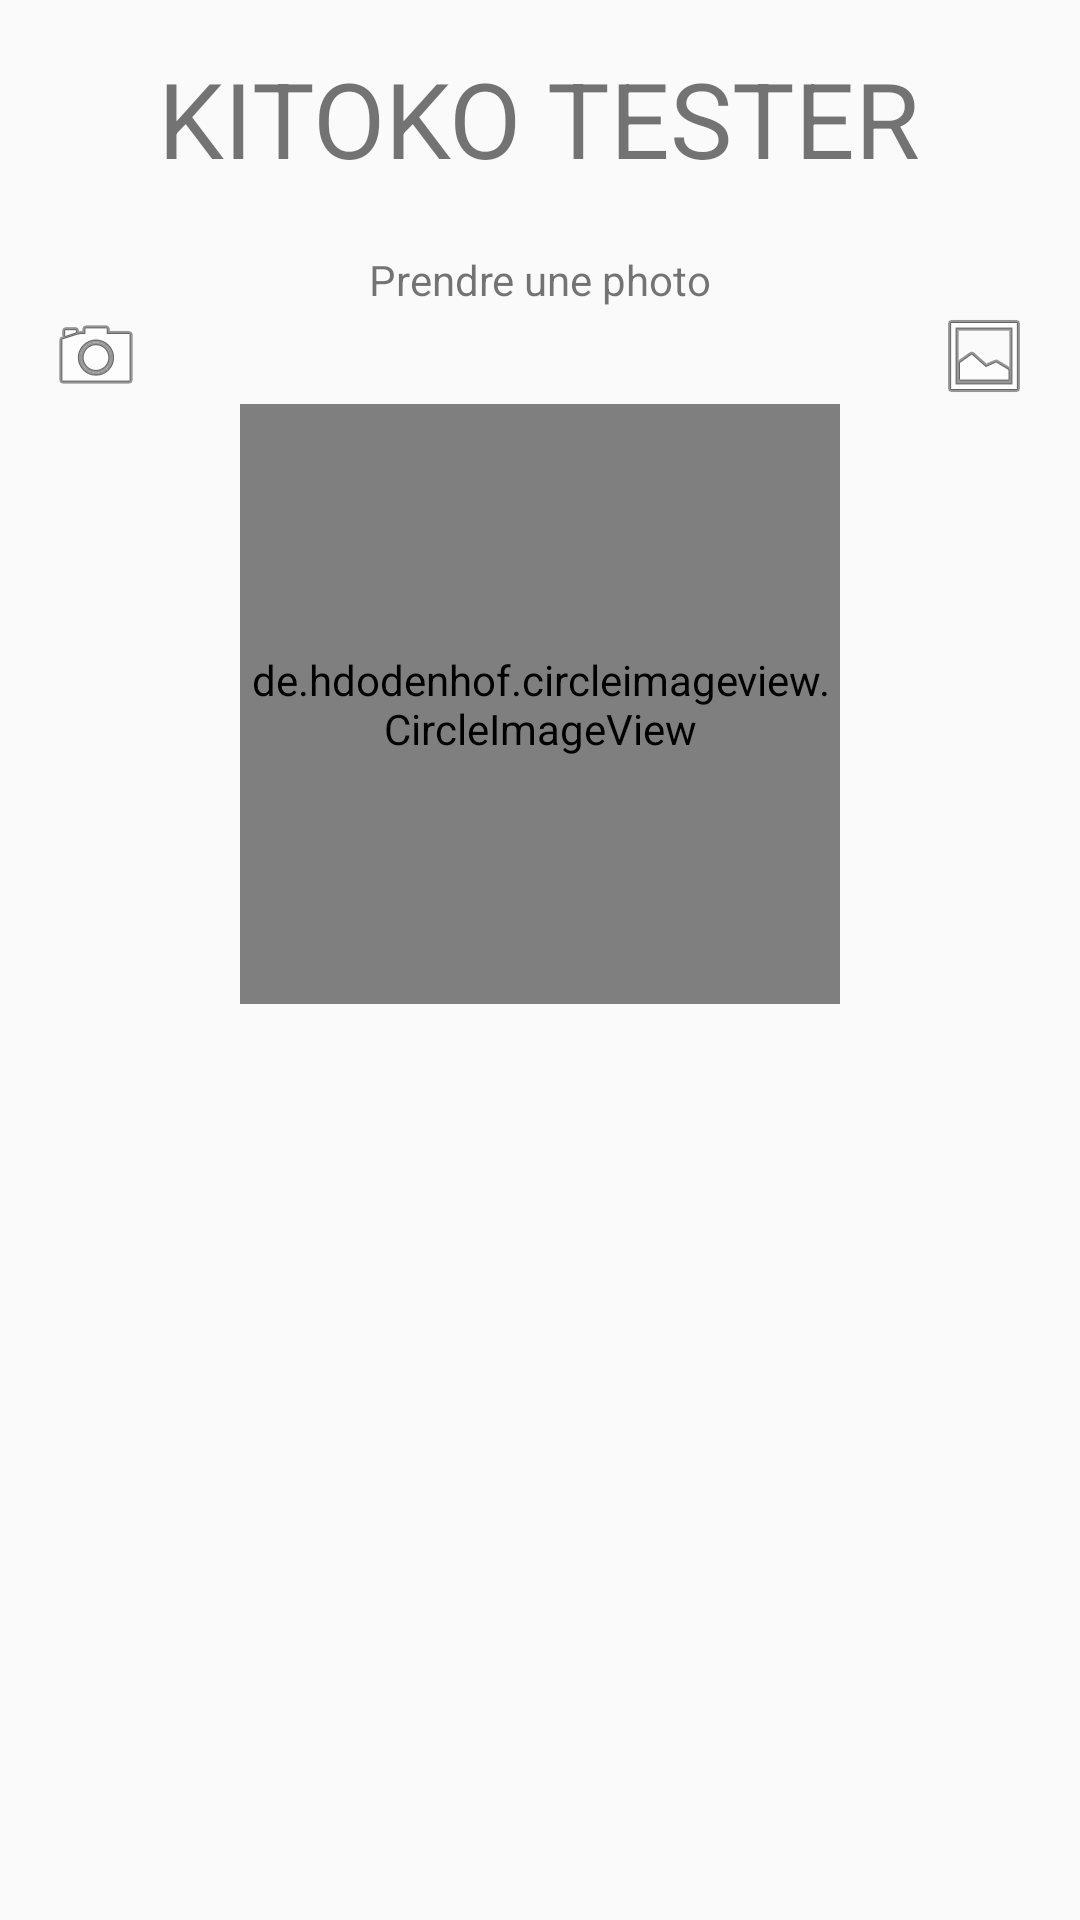

Named icons in this screenshot (1080*1920) and their bounding boxes, {"x1": x1, "y1": y1, "x2": x2, "y2": y2}:
camera: {"x1": 59, "y1": 325, "x2": 133, "y2": 384}
gallery: {"x1": 948, "y1": 320, "x2": 1020, "y2": 392}
